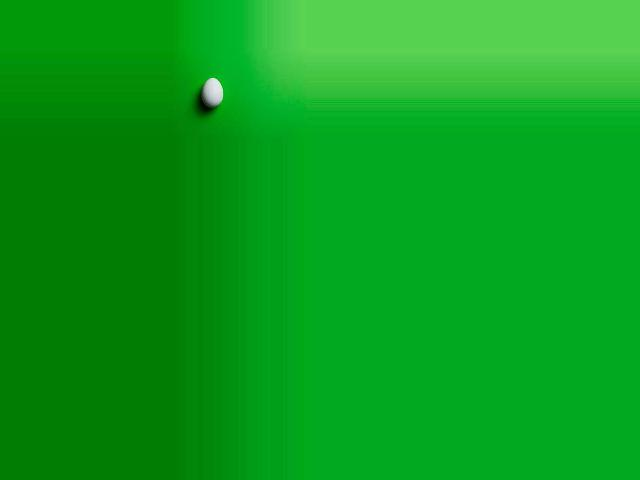egg: (201, 78, 223, 108)
